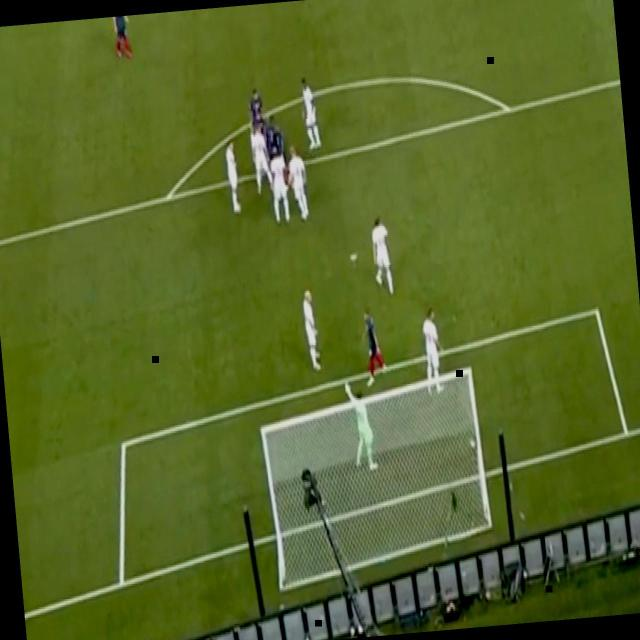player-white: (343, 376, 380, 475), (419, 306, 449, 398), (359, 307, 389, 389), (368, 214, 396, 297), (284, 142, 311, 224), (267, 144, 293, 226), (300, 288, 324, 374), (298, 75, 324, 153), (248, 122, 274, 198), (223, 140, 243, 218), (110, 16, 134, 62), (262, 113, 286, 157), (245, 89, 265, 130)
